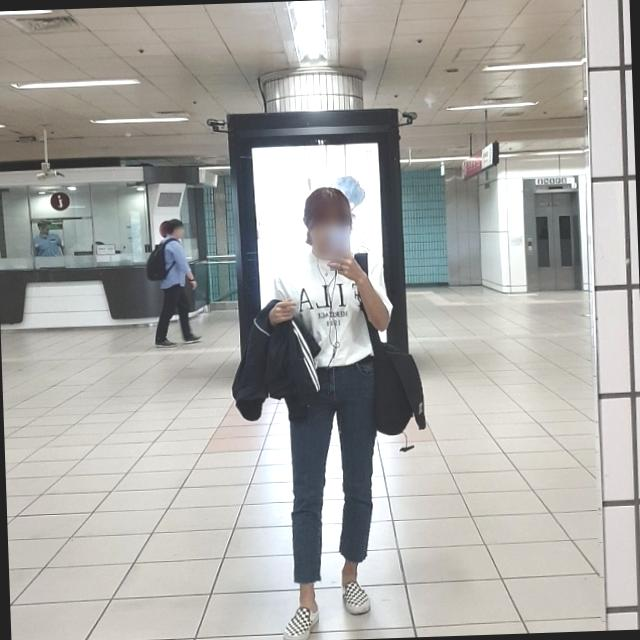denimpants: (282, 352, 378, 580)
shortsleeve: (272, 245, 396, 369)
